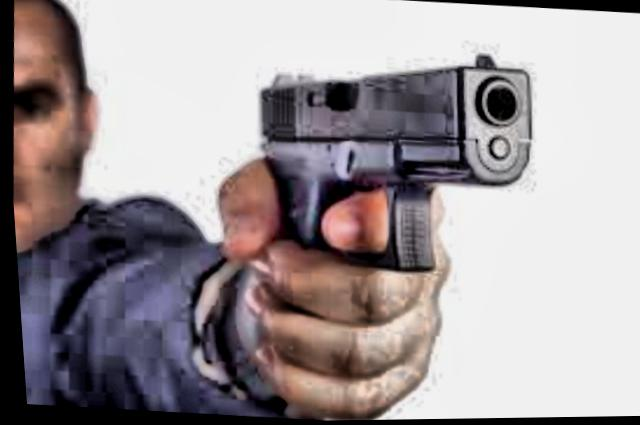pistol: (186, 25, 553, 397)
